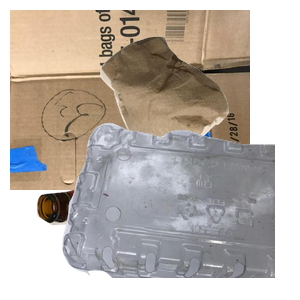cardboard: (10, 10, 250, 190)
glass: (34, 170, 223, 300)
plastic: (60, 120, 300, 300)
trash: (98, 34, 300, 211)
